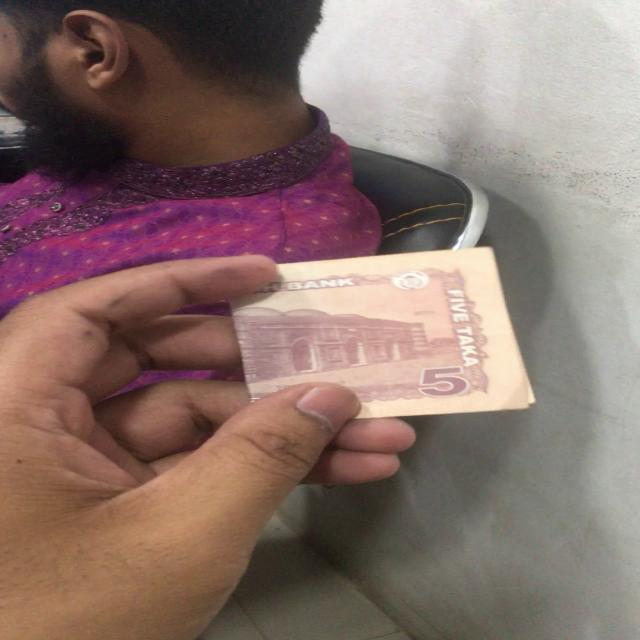Taka: (238, 257, 536, 416)
